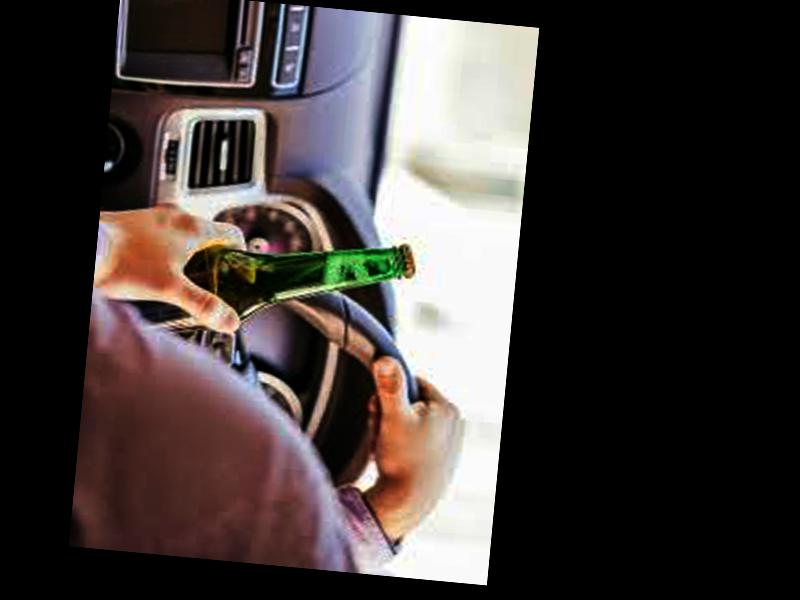Beer: (121, 217, 419, 353)
